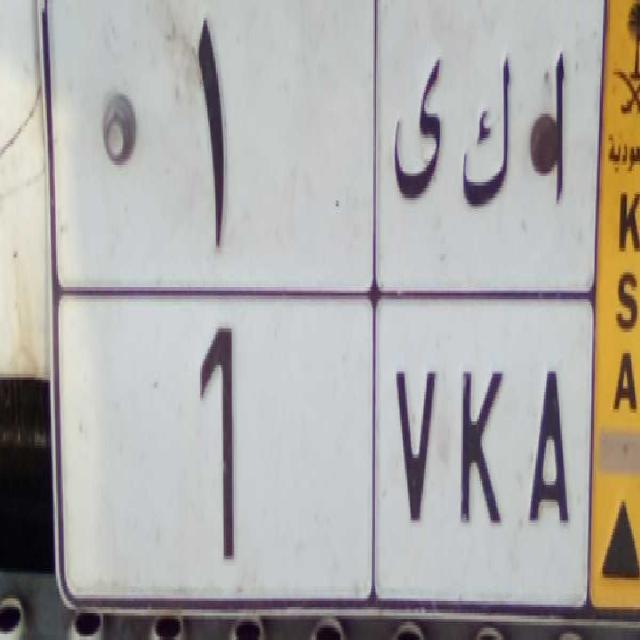license_plate: (56, 287, 590, 625)
